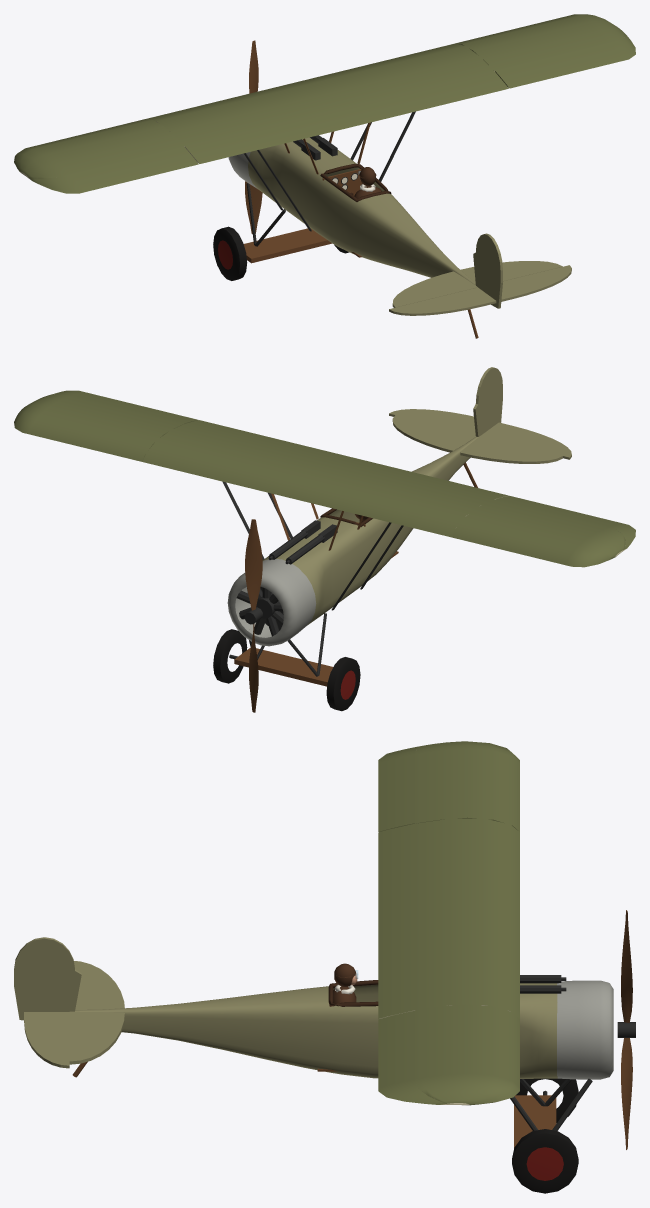
Rendered from fokker_dviii.glb.
3 views of the same model, one above another, from view 1: azimuth 30°, elevation 25°; view 2: azimuth 150°, elevation 25°; view 3: azimuth 270°, elevation 25° (orthographic). The views are drawn at different scales.
Visible parts, largest first — view 1: Wing_Main_L, Wing_Main_R, Fuselage, Aileron_L, Aileron_R, Elevator, Undercarriage, Rudder, Wheels, Stabilizer_L, Struts, PropBlades (+4 smaller); view 2: Wing_Main_L, Wing_Main_R, Fuselage, Cowling, Wheels, Elevator, Undercarriage, PropBlades, Stabilizer_L, Stabilizer_R, Rudder, Aileron_L (+4 smaller); view 3: Wing_Main_R, Wing_Main_L, Fuselage, Cowling, Rudder, Wheels, Aileron_R, Aileron_L, Stabilizer_R, Undercarriage, PropBlades, Elevator (+3 smaller).
Boxes of the visible parts, <box> form: Wing_Main_L: <box>14,81,353,178</box>; Wing_Main_R: <box>301,14,625,126</box>; Fuselage: <box>248,137,475,285</box>; Aileron_L: <box>29,146,198,193</box>; Aileron_R: <box>495,34,635,88</box>; Elevator: <box>389,265,571,315</box>; Undercarriage: <box>243,183,478,338</box>; Rudder: <box>473,233,502,308</box>; Wheels: <box>213,226,348,280</box>; Stabilizer_L: <box>392,271,477,307</box>; Struts: <box>243,111,415,231</box>; PropBlades: <box>245,40,262,233</box>; Wing_Main_L: <box>297,458,625,567</box>; Wing_Main_R: <box>14,394,353,499</box>; Fuselage: <box>262,436,478,625</box>; Cowling: <box>227,559,316,646</box>; Wheels: <box>213,629,360,711</box>; Elevator: <box>389,409,571,459</box>; Undercarriage: <box>229,462,477,686</box>; PropBlades: <box>244,519,262,712</box>; Stabilizer_L: <box>460,435,562,463</box>; Stabilizer_R: <box>392,415,475,452</box>; Rudder: <box>473,367,502,436</box>; Aileron_L: <box>495,495,635,550</box>; Wing_Main_R: <box>378,911,519,1105</box>; Wing_Main_L: <box>378,741,519,925</box>; Fuselage: <box>75,983,557,1078</box>; Cowling: <box>557,980,613,1079</box>; Rudder: <box>14,937,81,1020</box>; Wheels: <box>512,1078,578,1193</box>; Aileron_R: <box>378,1010,447,1104</box>; Aileron_L: <box>378,746,419,831</box>; Stabilizer_R: <box>69,1011,124,1064</box>; Undercarriage: <box>72,1061,592,1148</box>; PropBlades: <box>617,910,635,1149</box>; Elevator: <box>24,1012,69,1068</box>.
Bounding box in the file's own units: 8.4 × 2.69 × 6.15.
